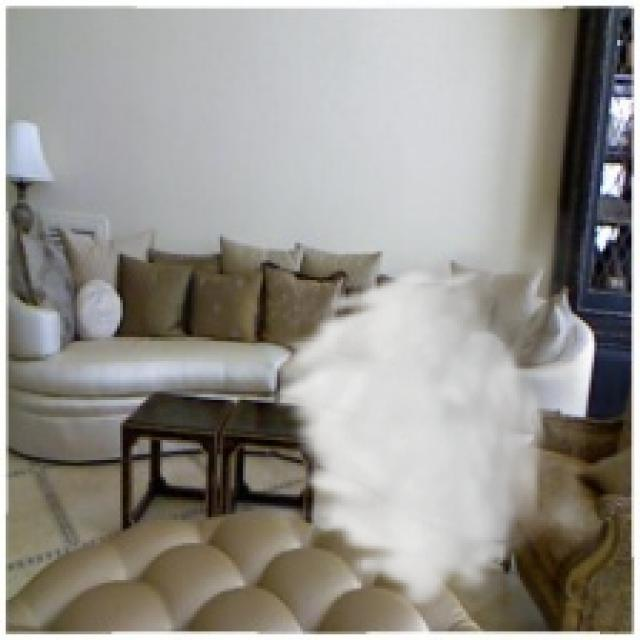smoke: (263, 192, 614, 612)
